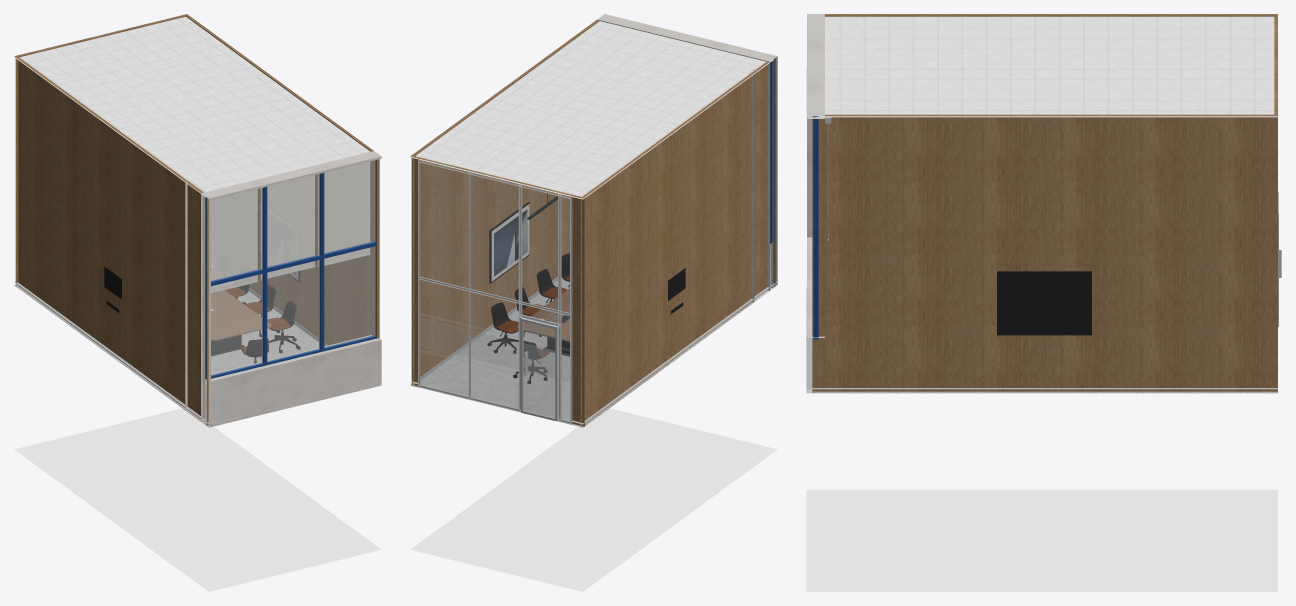
The model's file is sala5.glb.
3 renders of one model, left to right at view 1: azimuth 30°, elevation 25°; view 2: azimuth 150°, elevation 25°; view 3: azimuth 270°, elevation 25°, orthographic. The views are drawn at different scales.
Parts seen in each view (by area): view 1: BAKE_statico, Vetri.001, BAKE_sedie; view 2: BAKE_statico, Vetri.001, Anta05, Fasce satinate.001, BAKE_sedie, Stampa sala p2.jpg; view 3: BAKE_statico.
Part boxes in pixels (x1=…): BAKE_statico: x1=14, y1=14, x2=381, y2=591; Vetri.001: x1=211, y1=160, x2=375, y2=375; BAKE_sedie: x1=225, y1=284, x2=300, y2=363; BAKE_statico: x1=410, y1=14, x2=777, y2=591; Vetri.001: x1=419, y1=161, x2=570, y2=423; Anta05: x1=521, y1=318, x2=557, y2=421; Fasce satinate.001: x1=420, y1=313, x2=569, y2=387; BAKE_sedie: x1=487, y1=253, x2=569, y2=383; Stampa sala p2.jpg: x1=494, y1=209, x2=527, y2=276; BAKE_statico: x1=806, y1=14, x2=1277, y2=591.
Size of the model in its own units: 3.97 by 8.62 by 7.8.
34 materials, 10 textured.
